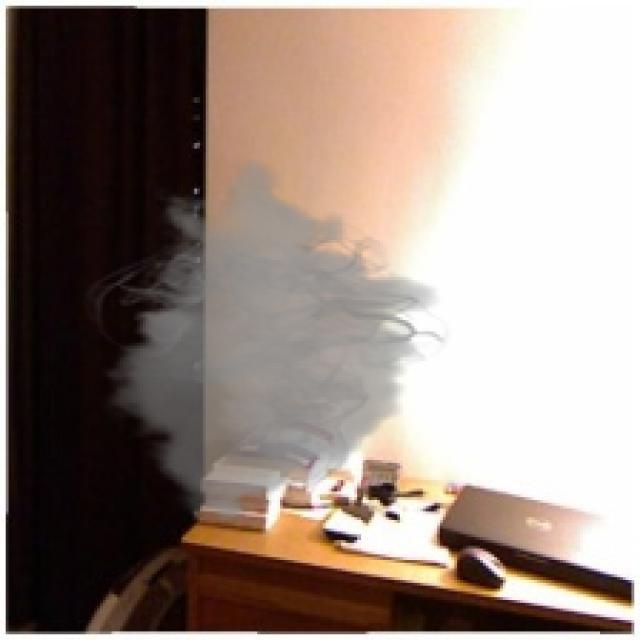Smoke: (77, 157, 452, 523)
